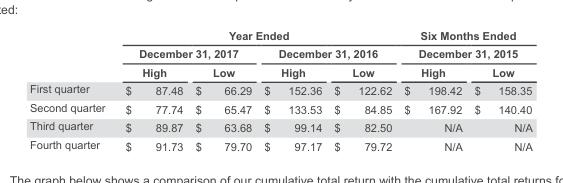table: (28, 29, 531, 151)
table column: (28, 29, 114, 151), (114, 29, 188, 151), (257, 29, 327, 151), (327, 29, 397, 151), (397, 29, 467, 151), (188, 29, 257, 151), (467, 29, 531, 151)
table column header: (28, 29, 531, 80)
table row: (28, 98, 531, 117), (28, 44, 531, 62), (28, 62, 531, 80), (28, 80, 531, 98), (28, 117, 531, 135), (28, 135, 531, 151), (28, 29, 531, 44)
table spanning cell: (397, 29, 531, 62), (114, 29, 397, 44), (114, 44, 257, 62), (257, 44, 397, 62)
